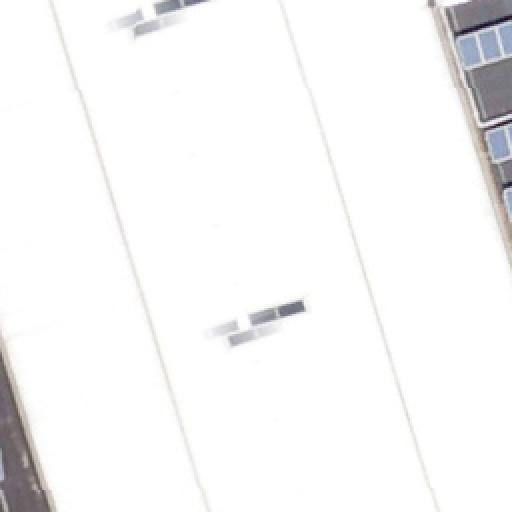solar-panel: (454, 21, 512, 75), (484, 121, 512, 167), (504, 188, 512, 224), (1, 449, 7, 479)
